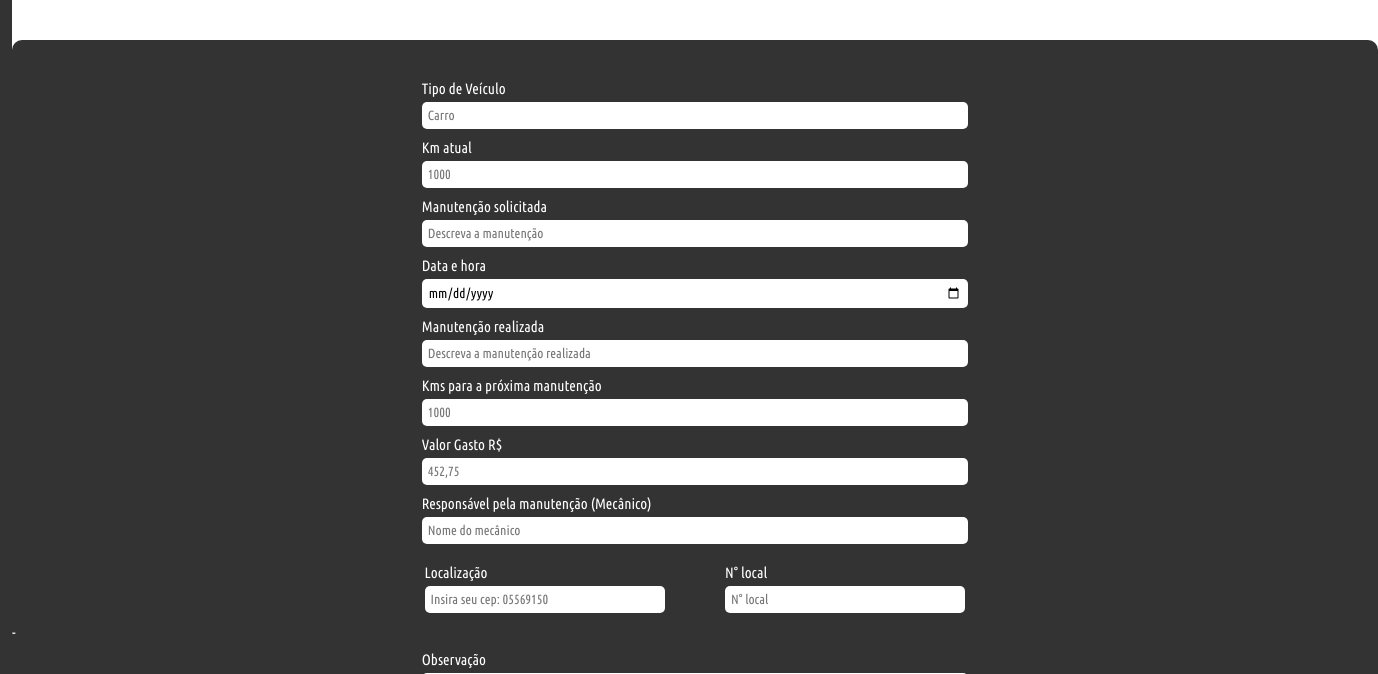
Input API value › should validate cep
Step 1. Type "05569150" into the field with test id "location-input" → point(545, 600), box [424,586,665,613]
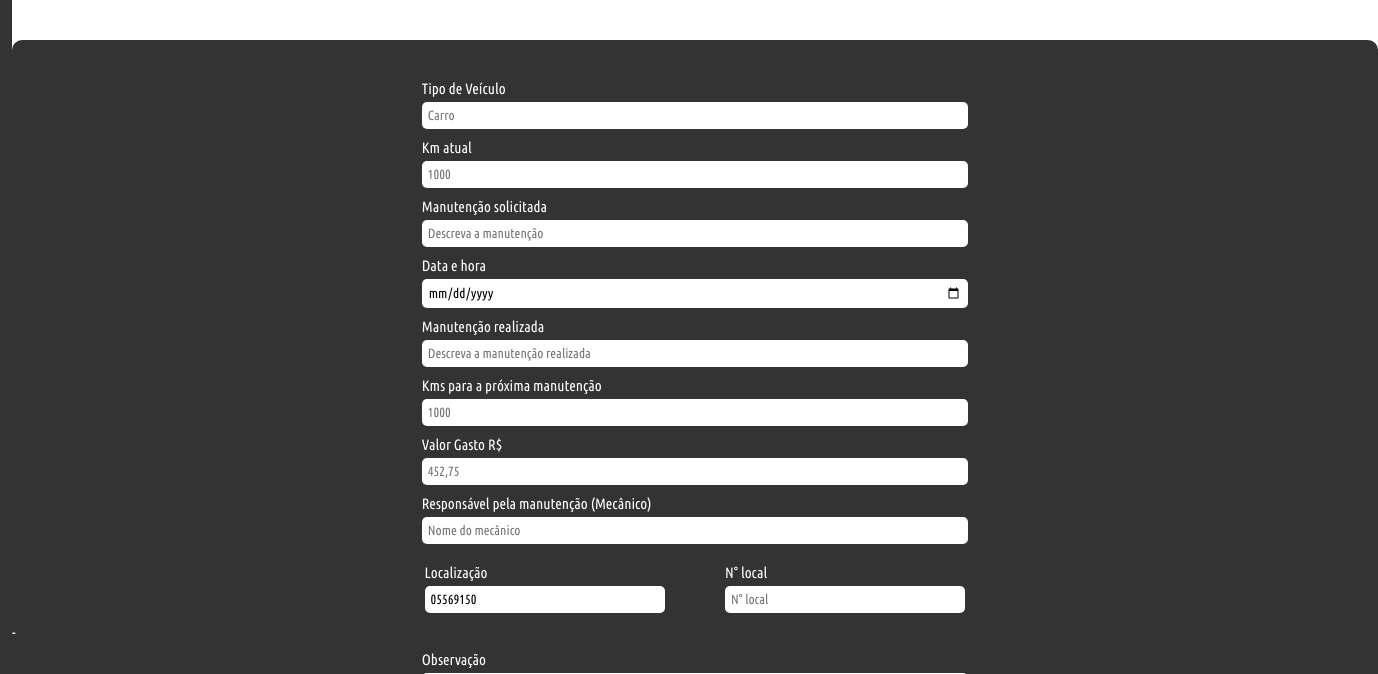
Step 2. Type "29" into the field with test id "number-localization-input" → point(845, 600), box [725,586,965,613]
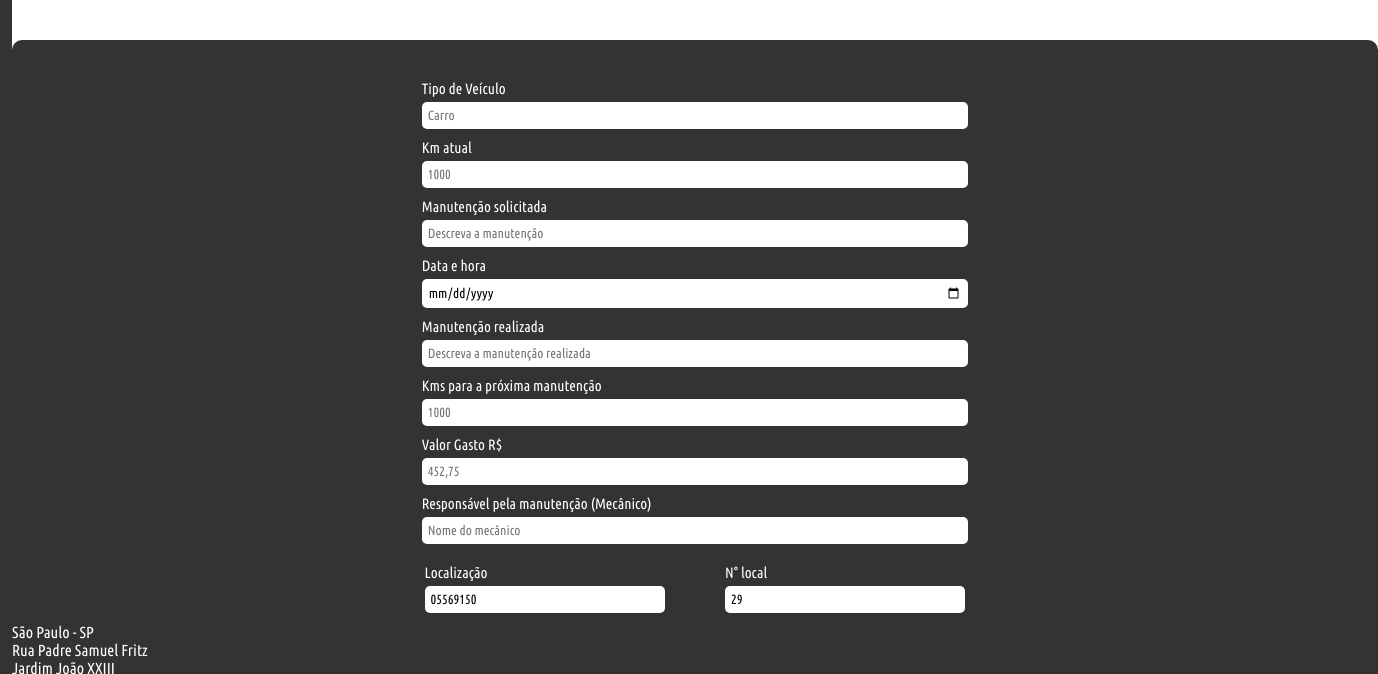
Result: the text "Rua Padre Samuel Fritz" is shown at [12,641,148,659]
